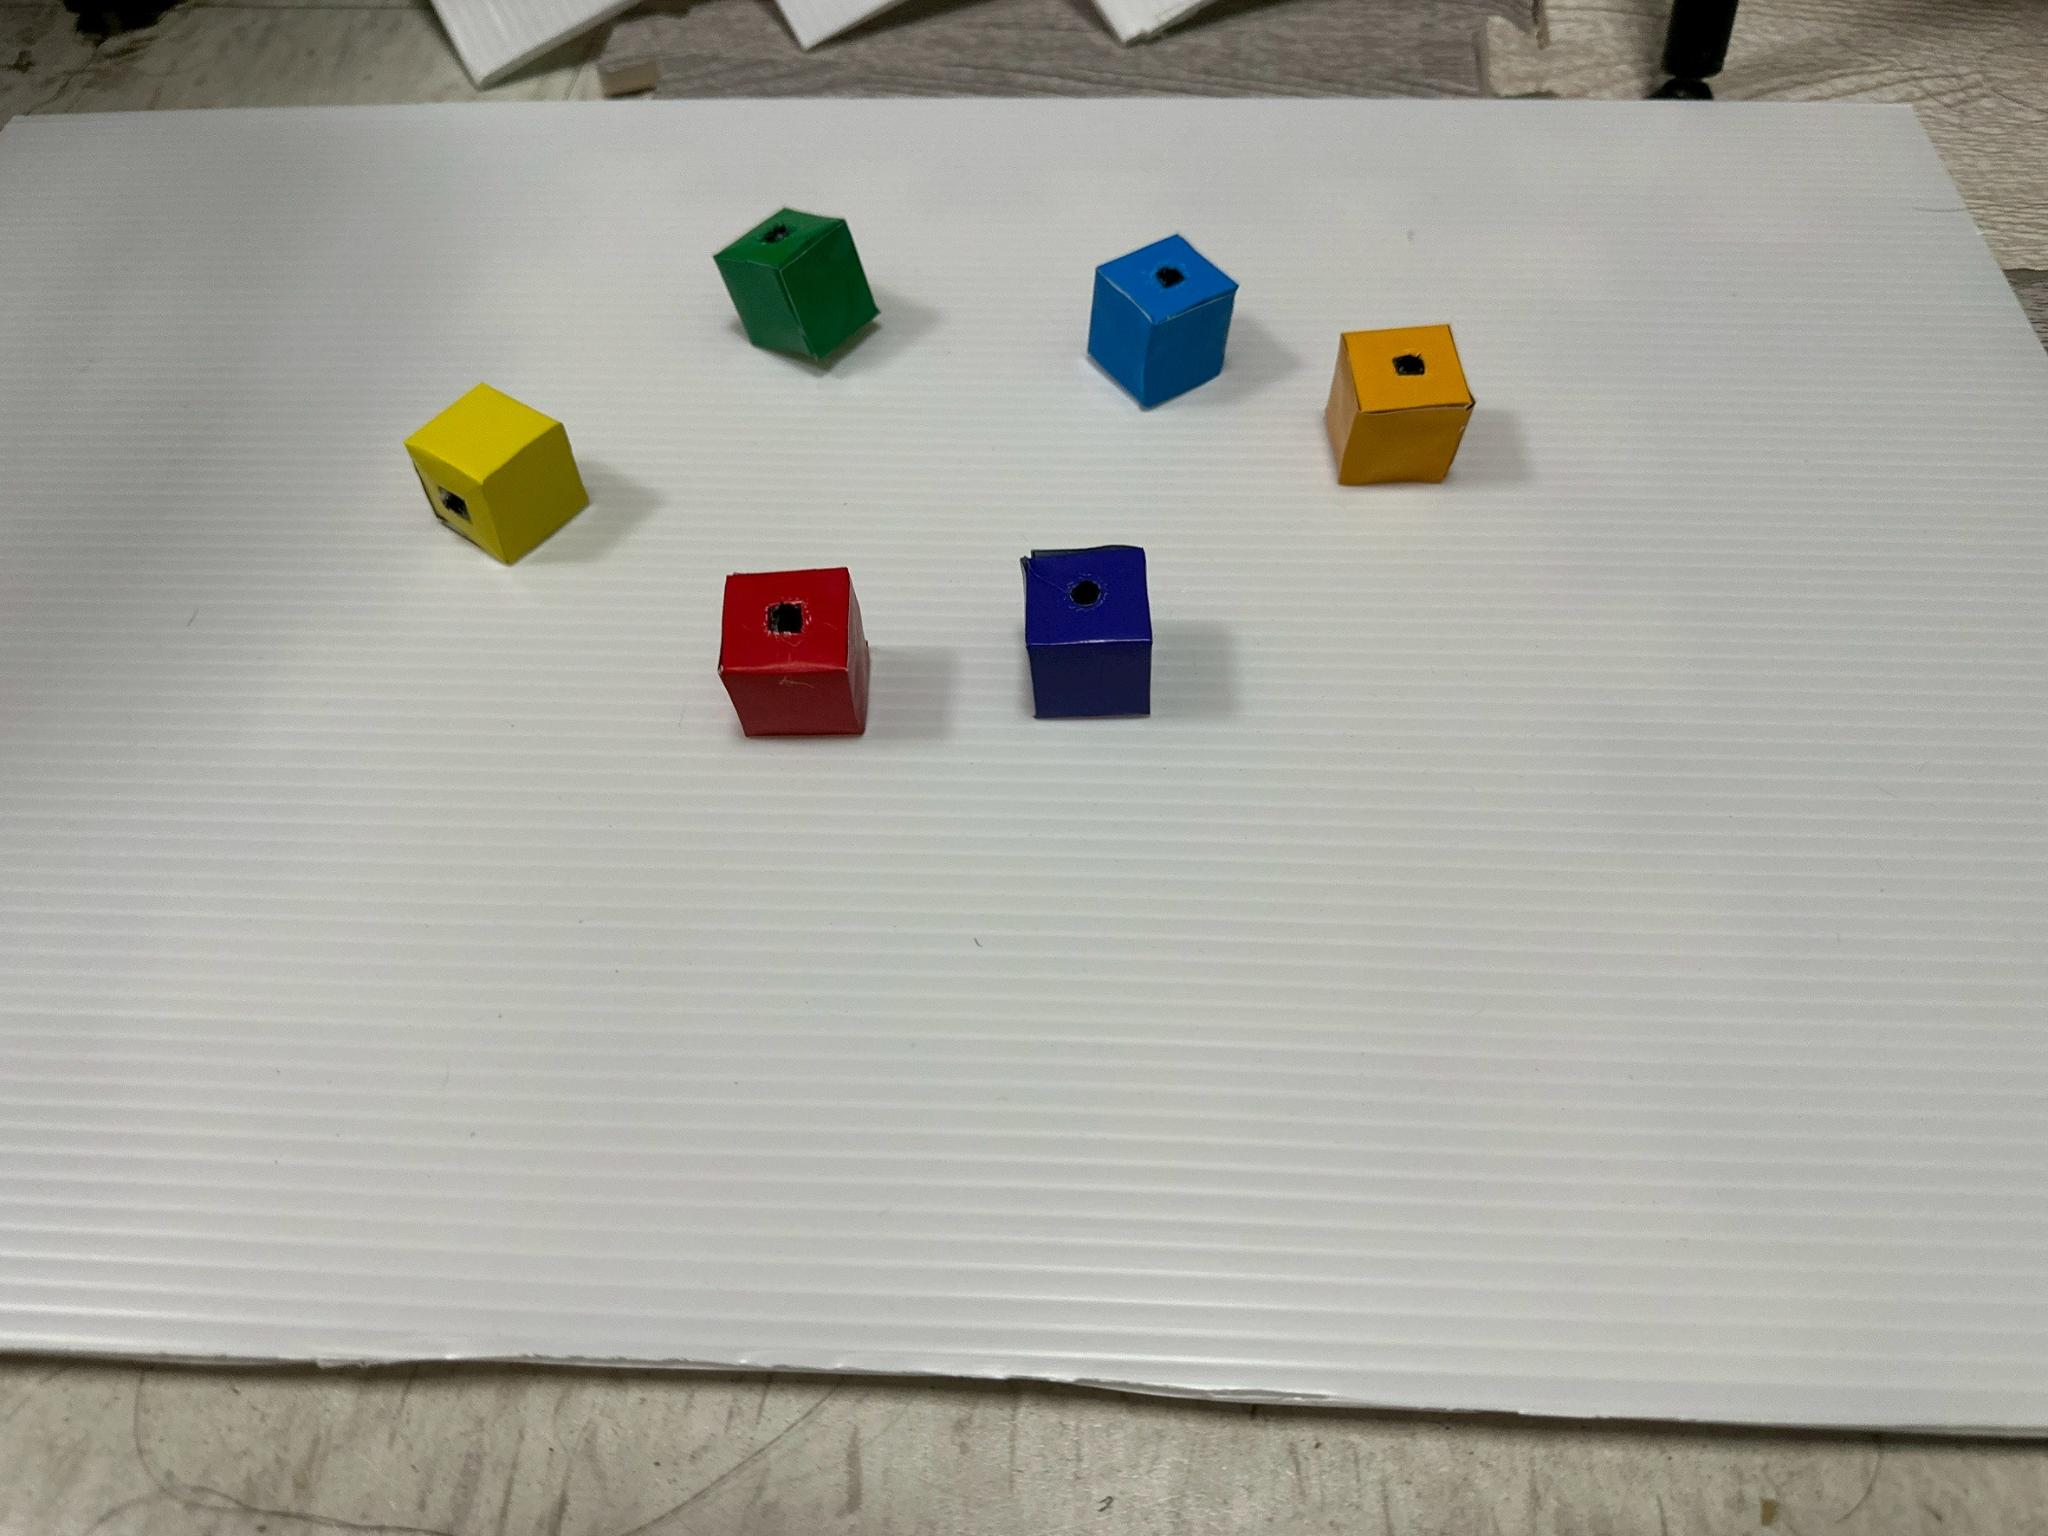base: (405, 382, 587, 563), (1089, 236, 1237, 408), (719, 568, 871, 736), (714, 208, 877, 360), (1326, 326, 1471, 482), (1022, 547, 1150, 718)
